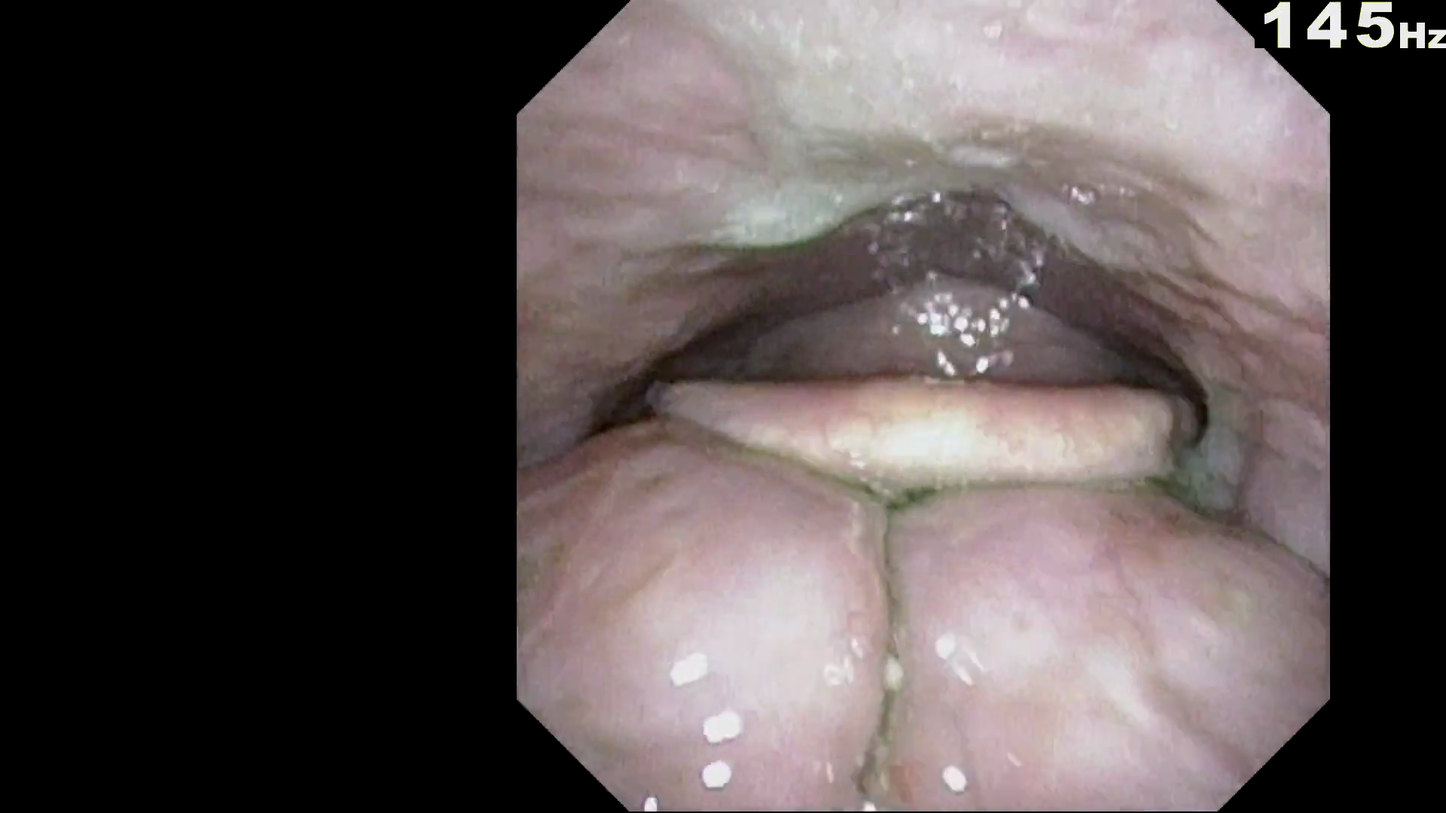epiglottis: (682, 399, 1184, 511)
